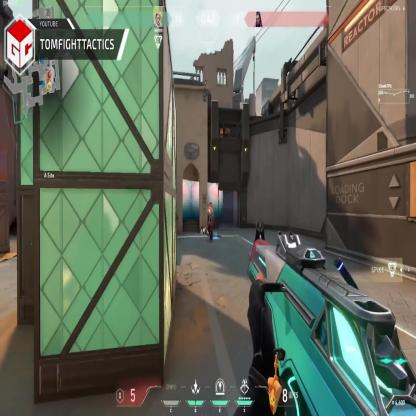enemy: (207, 203, 214, 242)
enemy_head: (210, 202, 212, 209)
